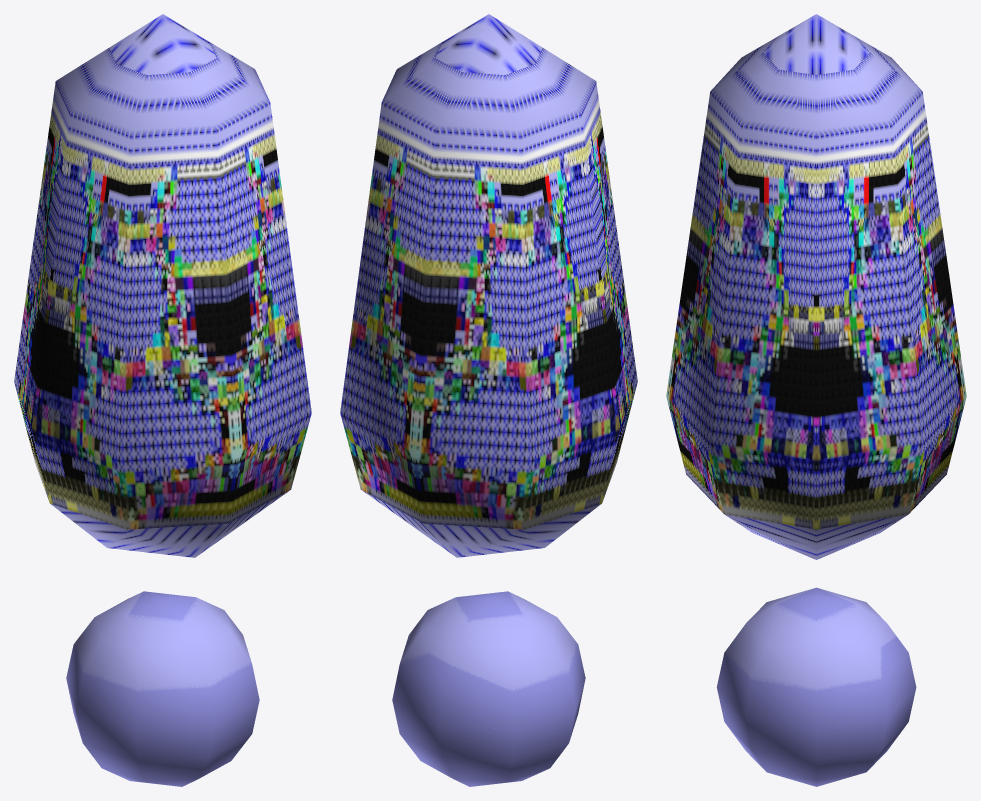
The model's file is cloth_soccer_model.glb.
3 views of the same model, side by side, from view 1: azimuth 30°, elevation 25°; view 2: azimuth 150°, elevation 25°; view 3: azimuth 270°, elevation 25° (orthographic).
Visible parts, largest first — view 1: cloth_soccer_model; view 2: cloth_soccer_model; view 3: cloth_soccer_model.
Part boxes in pixels (left/top/right/bottom): cloth_soccer_model: left=14, top=14, right=311, bottom=786; cloth_soccer_model: left=340, top=14, right=637, bottom=786; cloth_soccer_model: left=666, top=14, right=966, bottom=786.
Bounding box in the file's own units: 30.77 × 86.34 × 30.79.
Materials: 1 (1 with a texture image).
